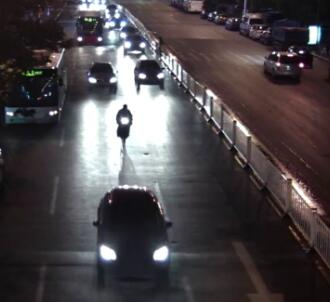bus: (2, 44, 69, 129), (73, 7, 107, 44)
car: (90, 182, 174, 283), (261, 49, 305, 81), (132, 56, 167, 91), (84, 61, 120, 94), (122, 35, 148, 56), (240, 12, 261, 33), (249, 22, 267, 38)
